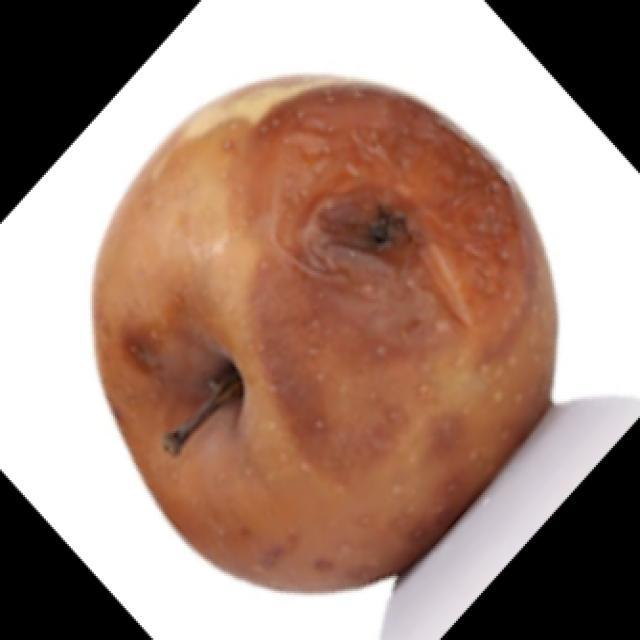Rotten: (73, 80, 545, 570)
